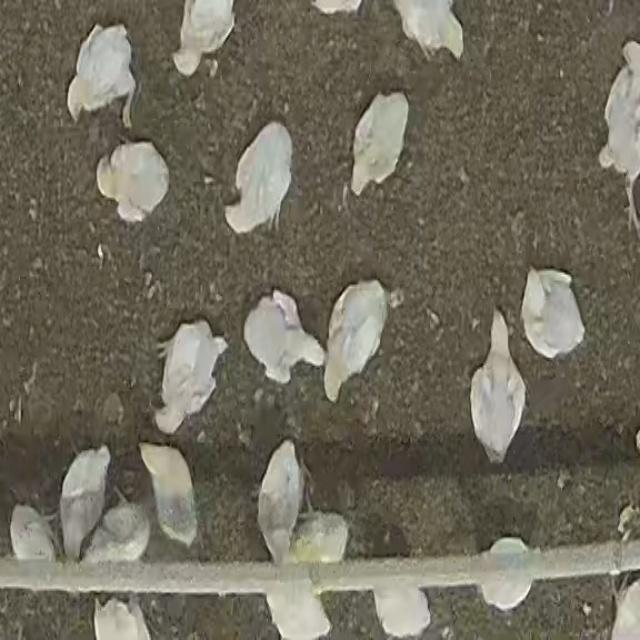chicken: (319, 272, 392, 406), (221, 118, 296, 240), (242, 285, 326, 386), (152, 320, 225, 435), (470, 312, 525, 464), (67, 21, 138, 126), (350, 87, 412, 198), (139, 443, 198, 553), (98, 139, 171, 224), (256, 439, 305, 565), (59, 445, 111, 561), (519, 265, 582, 360), (387, 0, 464, 62)
